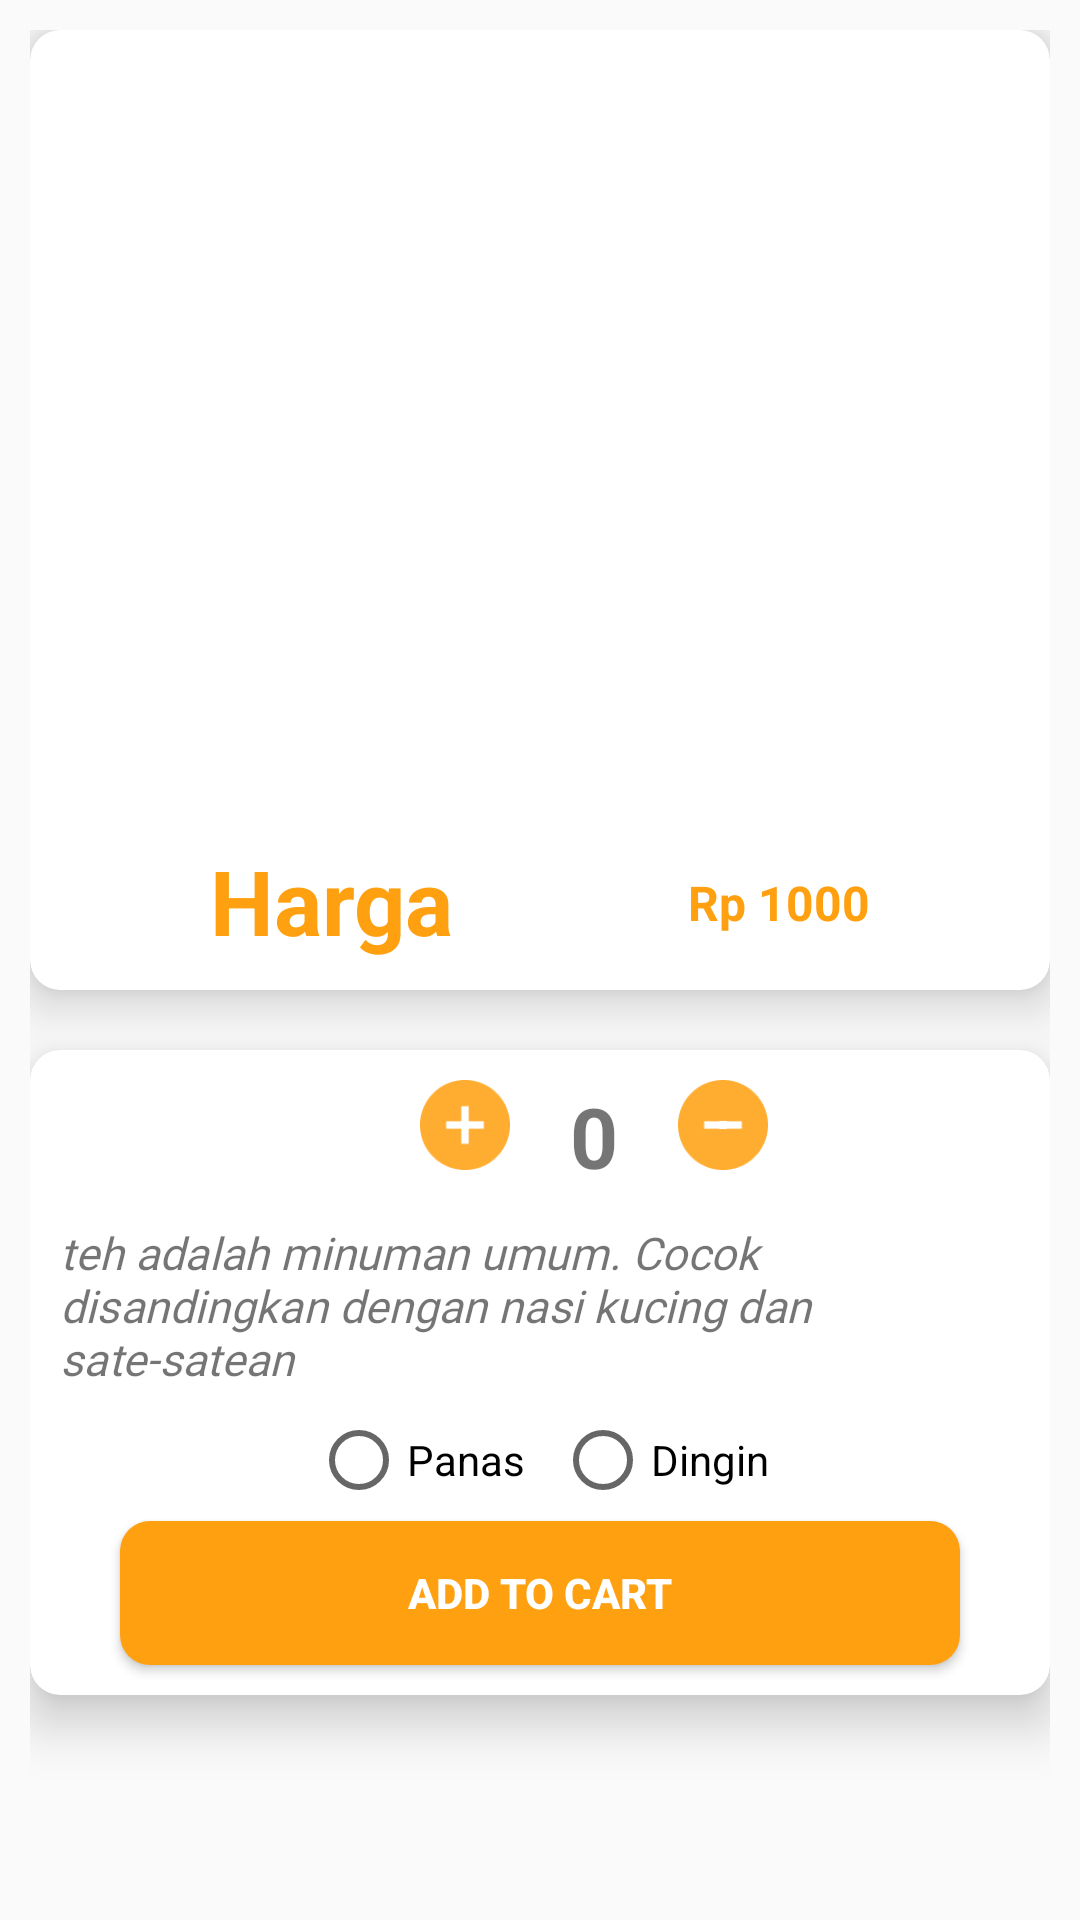

Named icons in this screenshot (1080×1920) and their centers, point (x, y):
minus: point (723, 1125)
plus: point (465, 1125)
